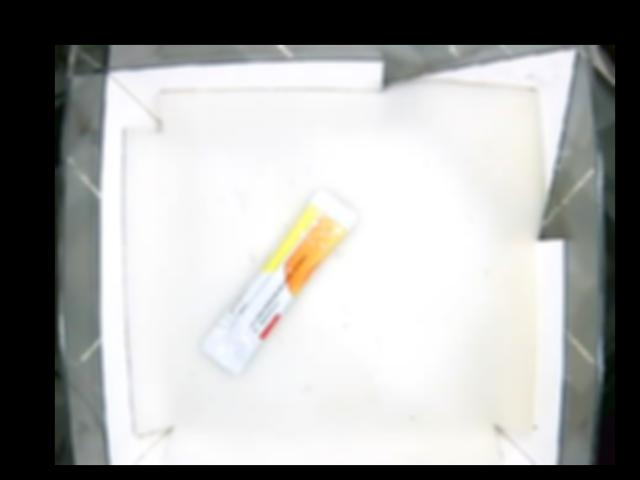Medicine: (199, 187, 358, 378)
